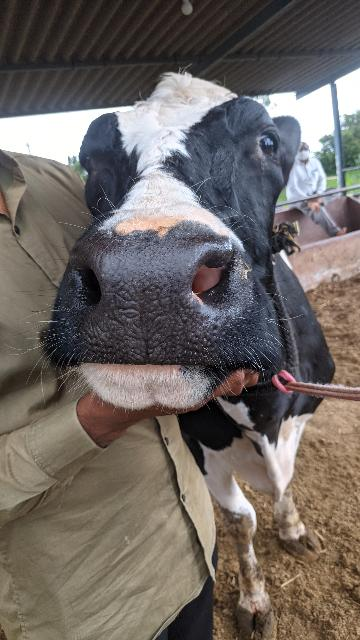Muzzle: (82, 240, 221, 352)
